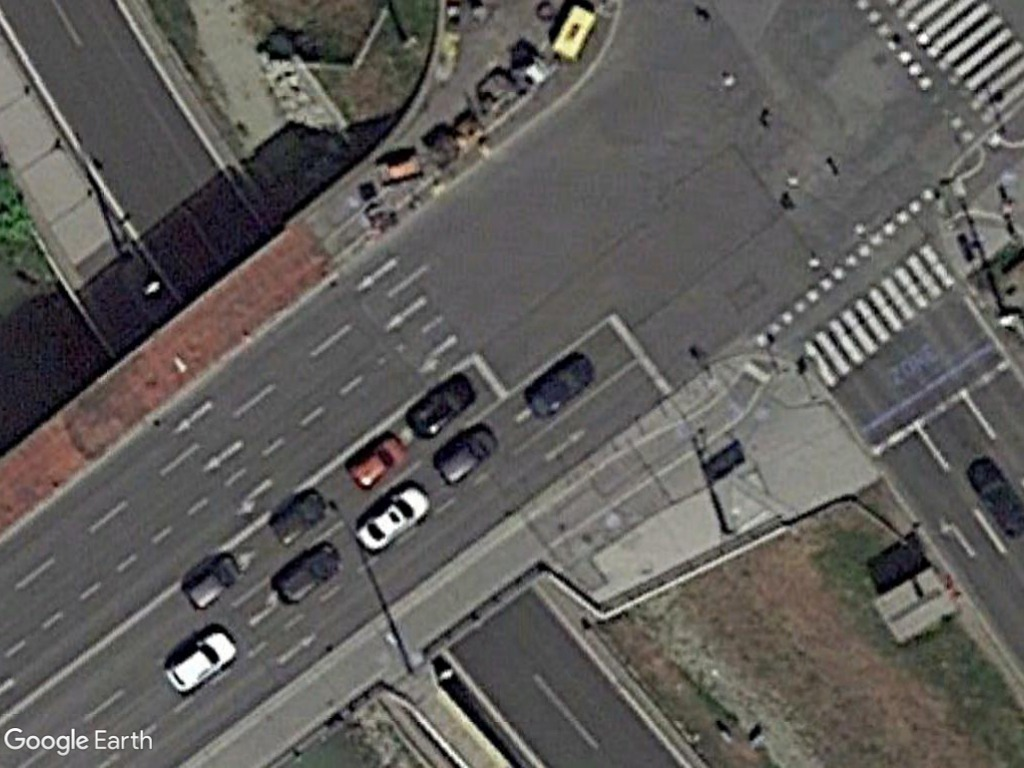car: (161, 624, 243, 699), (357, 482, 435, 556), (274, 539, 346, 608), (435, 424, 499, 486), (182, 549, 243, 612), (349, 432, 408, 494)
